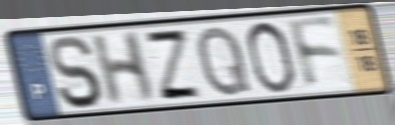F: (285, 15, 345, 94)
H: (89, 29, 158, 109)
O: (243, 18, 298, 96)
Q: (195, 22, 255, 99)
S: (46, 33, 105, 111)
Z: (141, 28, 206, 102)
